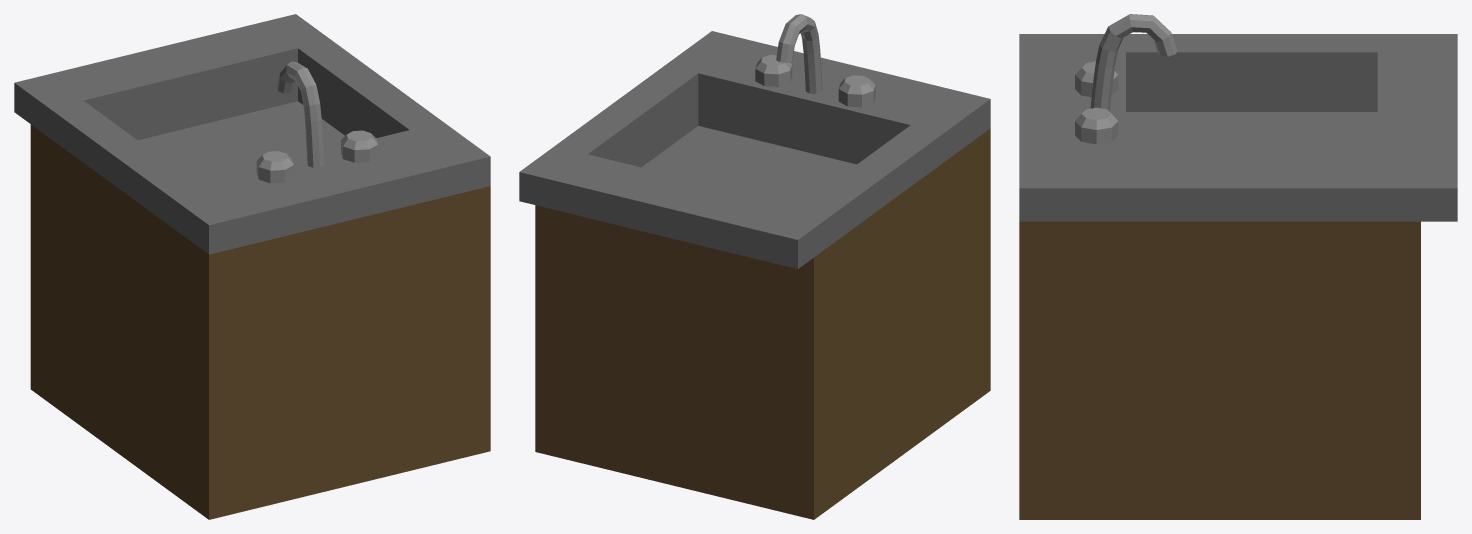
Rendered from Sink.fbx.
3 renders of one model, left to right at view 1: azimuth 30°, elevation 25°; view 2: azimuth 150°, elevation 25°; view 3: azimuth 270°, elevation 25°, orthographic. The views are drawn at different scales.
Parts seen in each view (by area): view 1: Sink; view 2: Sink; view 3: Sink.
Boxes of the visible parts, x1,y1,x2,y2 form: Sink: (14, 14, 490, 519); Sink: (519, 14, 990, 519); Sink: (1019, 14, 1457, 519).
Bounding box in the file's own units: 1 × 1.29 × 1.2.
